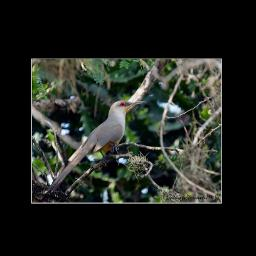Cuckoo: (44, 99, 147, 196)
